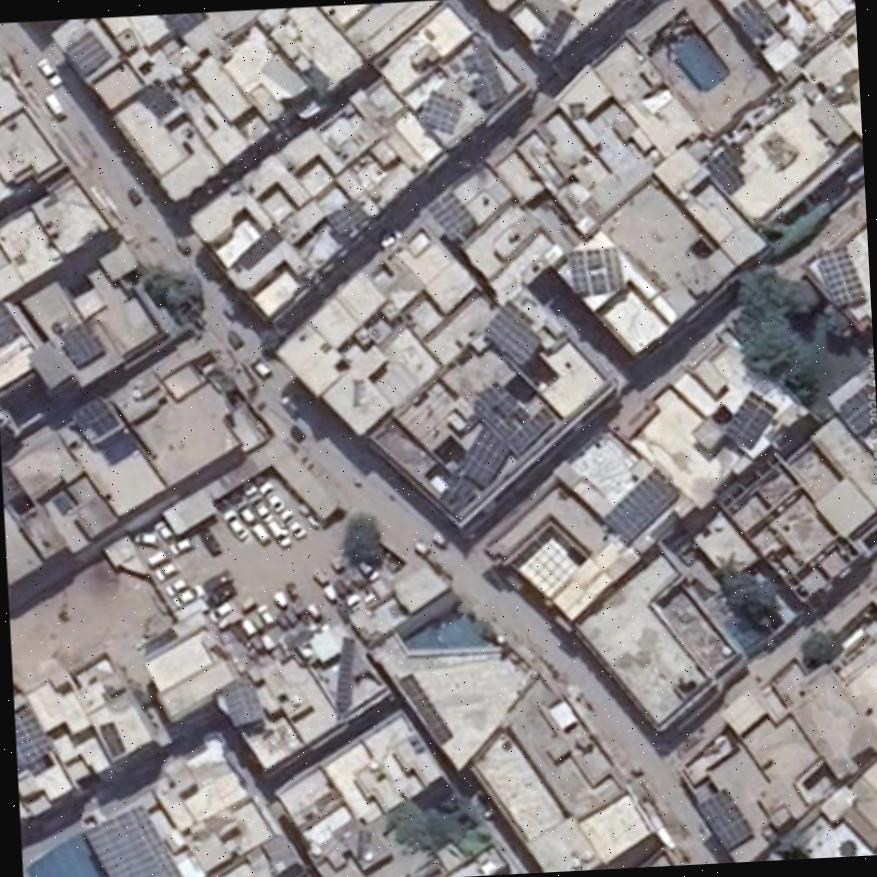Solarpanel: (83, 806, 183, 877), (474, 374, 553, 455), (601, 468, 682, 544), (441, 422, 512, 507), (398, 673, 450, 743), (483, 303, 539, 368), (696, 789, 750, 850), (814, 245, 864, 307), (723, 392, 779, 445), (701, 142, 758, 193), (14, 707, 54, 771), (426, 191, 473, 239), (567, 249, 617, 292), (72, 396, 116, 441), (841, 378, 875, 435), (537, 9, 573, 61), (418, 93, 463, 133), (62, 322, 102, 363), (335, 638, 353, 711)
